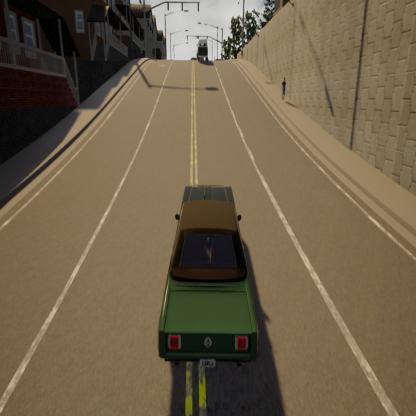Cars: (144, 177, 266, 376), (194, 32, 211, 65)
Pedestrian: (278, 72, 288, 102), (238, 43, 244, 61)
